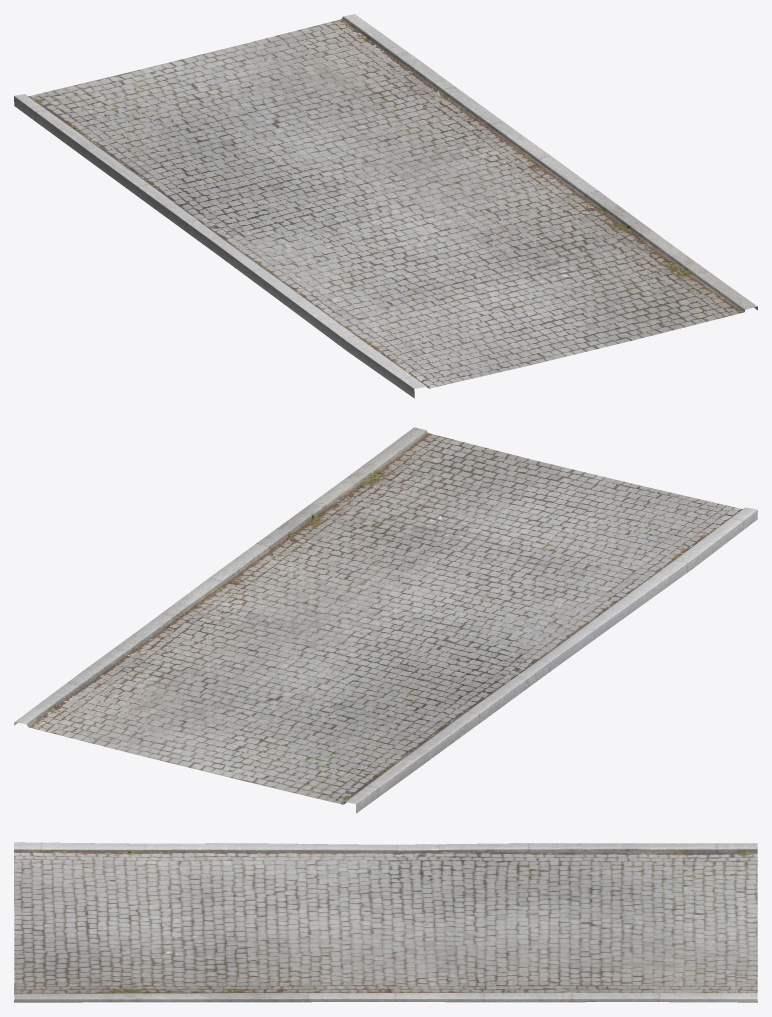
The model's file is cobblestone_road_d1fdf1b4.fbx.
3 views of the same model, one above another, from view 1: azimuth 30°, elevation 25°; view 2: azimuth 150°, elevation 25°; view 3: azimuth 270°, elevation 25° (orthographic). The views are drawn at different scales.
Parts seen in each view (by area): view 1: cobblestone_road_d1fdf1b4; view 2: cobblestone_road_d1fdf1b4; view 3: cobblestone_road_d1fdf1b4.
Boxes of the visible parts, box(x1,y1,x2,y2) form: cobblestone_road_d1fdf1b4: box(14, 14, 757, 398); cobblestone_road_d1fdf1b4: box(14, 427, 757, 813); cobblestone_road_d1fdf1b4: box(14, 842, 757, 1002).
Bounding box in the file's own units: 3.64 × 0.1188 × 7.36.
Materials: 1 (1 with a texture image).
